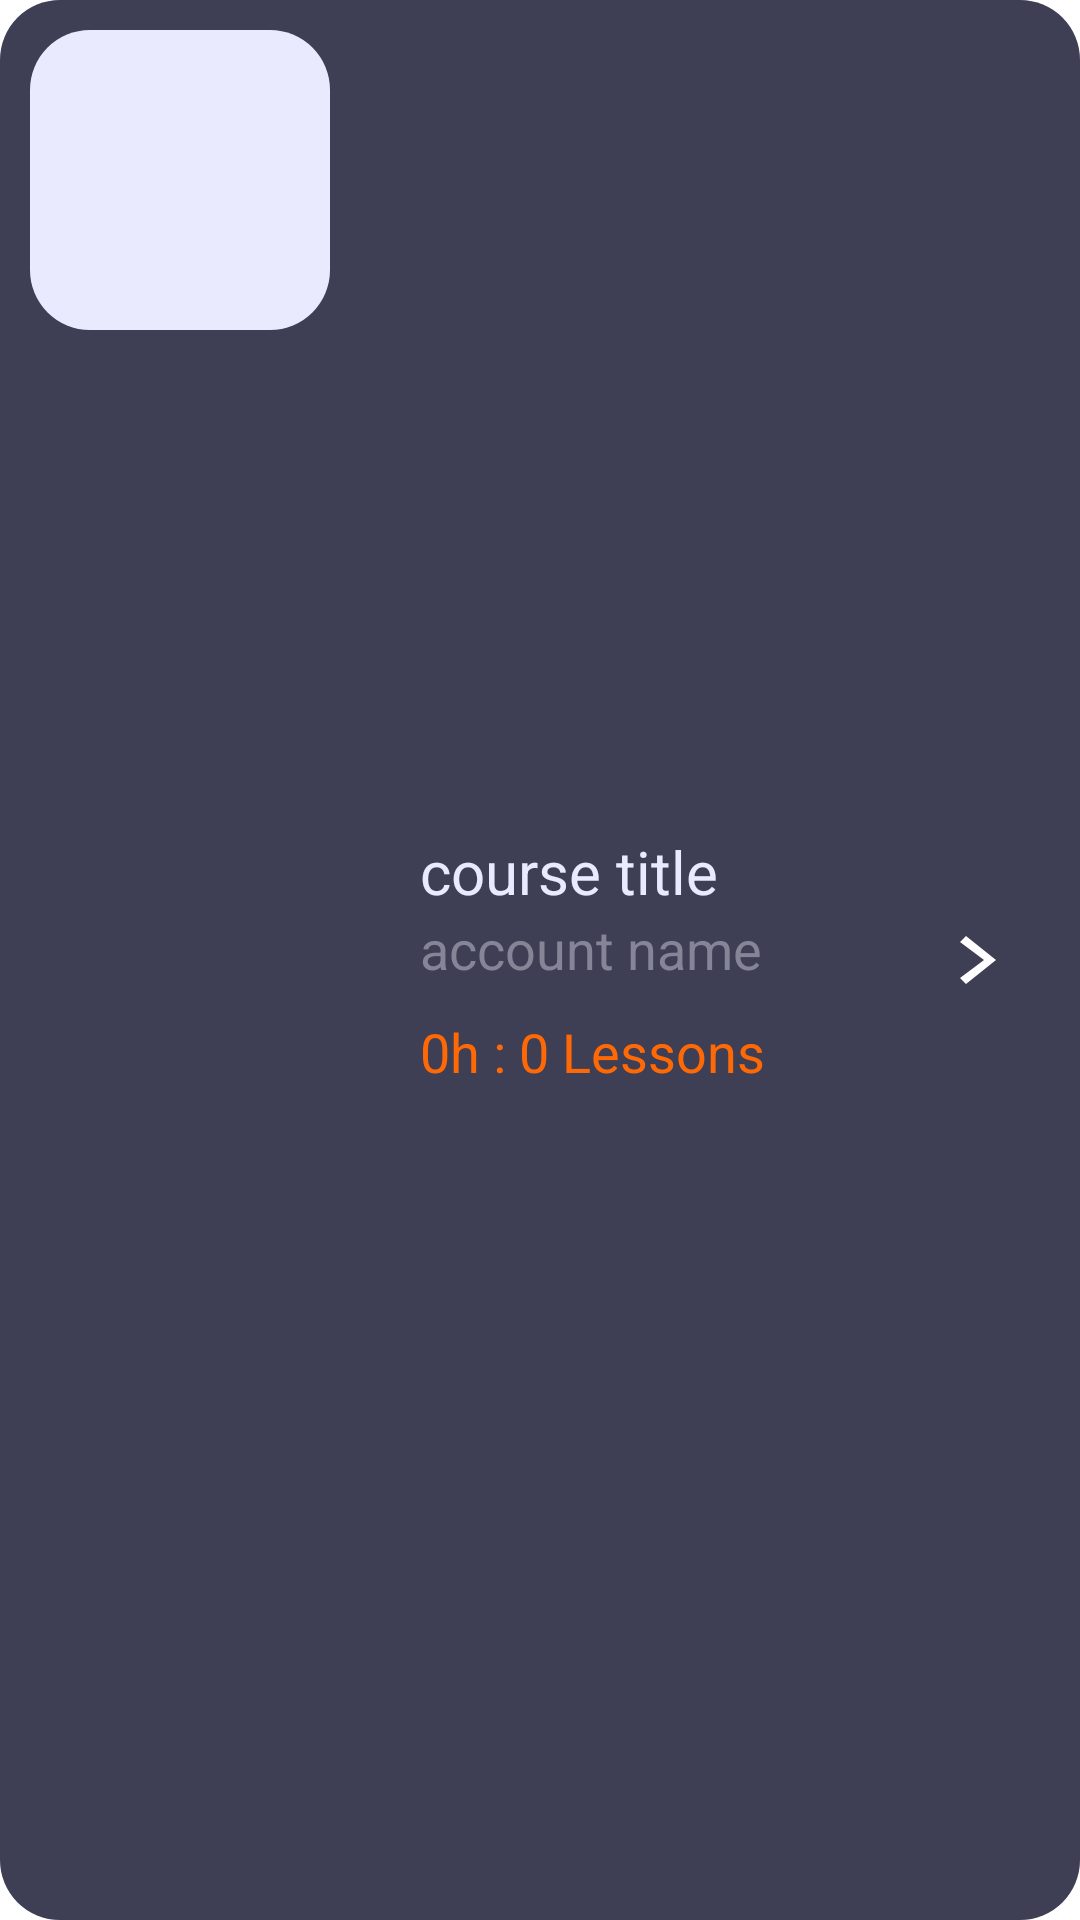

Icon click points for this 1080x1920 phone screenshot, format [x,y]:
aa arrow right: [978,960]
